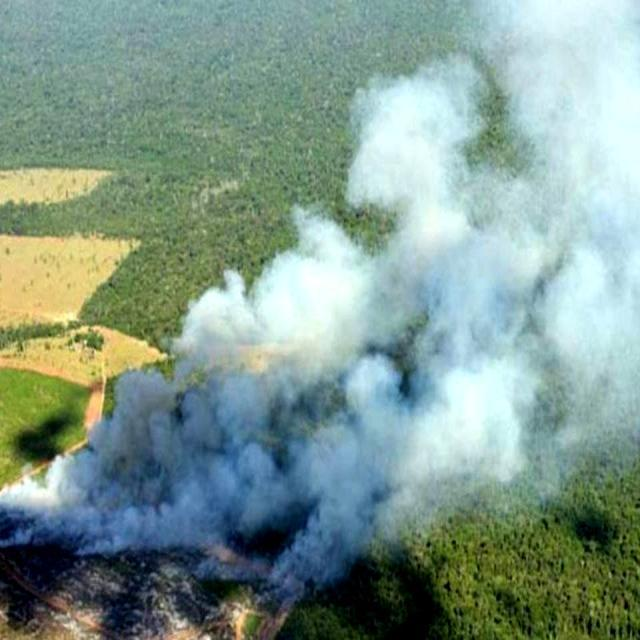Smoke: (79, 102, 640, 589)
